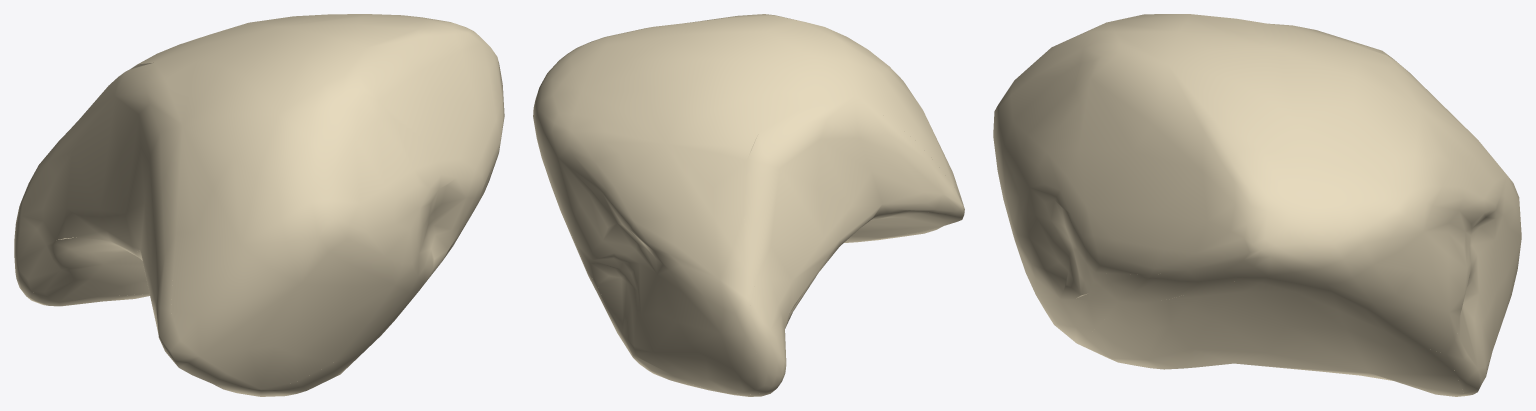
Rendered from esqueleto-lunate-bone-r.glb.
3 views of the same model, side by side, from view 1: azimuth 30°, elevation 25°; view 2: azimuth 150°, elevation 25°; view 3: azimuth 270°, elevation 25° (orthographic). The views are drawn at different scales.
Visible parts, largest first — view 1: Lunate bone.r; view 2: Lunate bone.r; view 3: Lunate bone.r.
Part boxes in pixels (x1,y1,x2,y2): Lunate bone.r: (14, 14, 504, 396); Lunate bone.r: (533, 14, 964, 396); Lunate bone.r: (993, 14, 1521, 396).
Bounding box in the file's own units: 0.0171 × 0.0127 × 0.0166.
